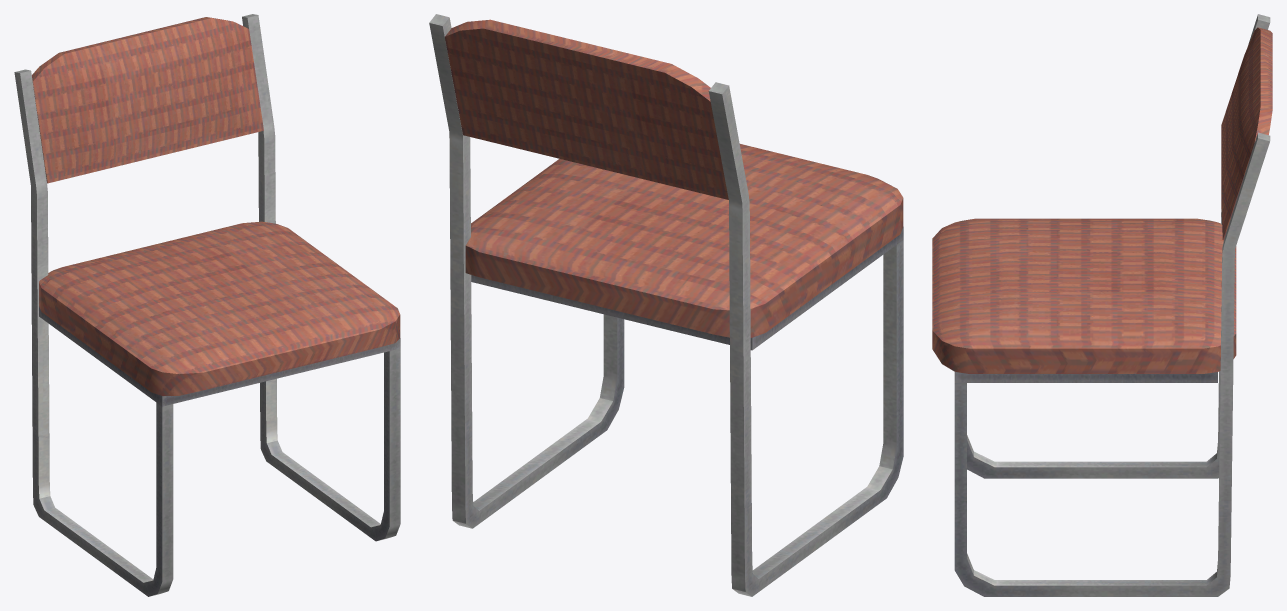
Rendered from chair_01.FBX.
3 views of the same model, side by side, from view 1: azimuth 30°, elevation 25°; view 2: azimuth 150°, elevation 25°; view 3: azimuth 270°, elevation 25° (orthographic). The views are drawn at different scales.
Visible parts, largest first — view 1: chair; view 2: chair; view 3: chair.
Part boxes in pixels (x1,y1,x2,y2): chair: (14, 14, 400, 596); chair: (429, 14, 903, 596); chair: (932, 14, 1272, 596).
Size of the model in its own units: 72.93 by 124 by 81.67.
